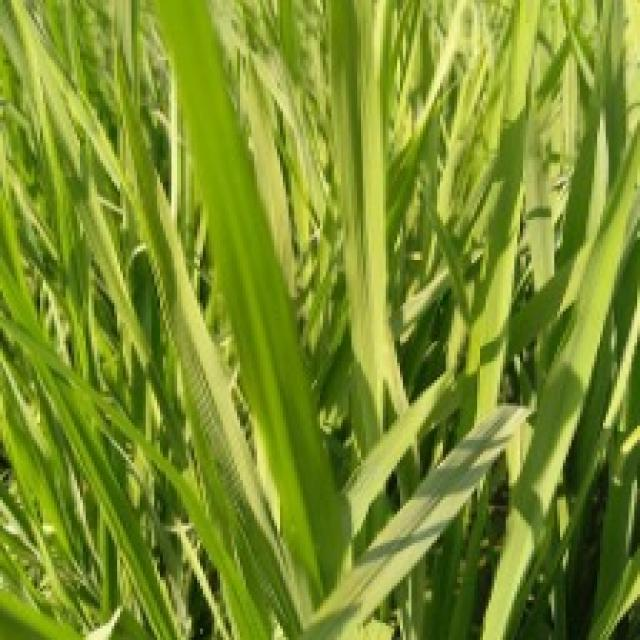Healthy-Plant: (161, 0, 371, 627)
